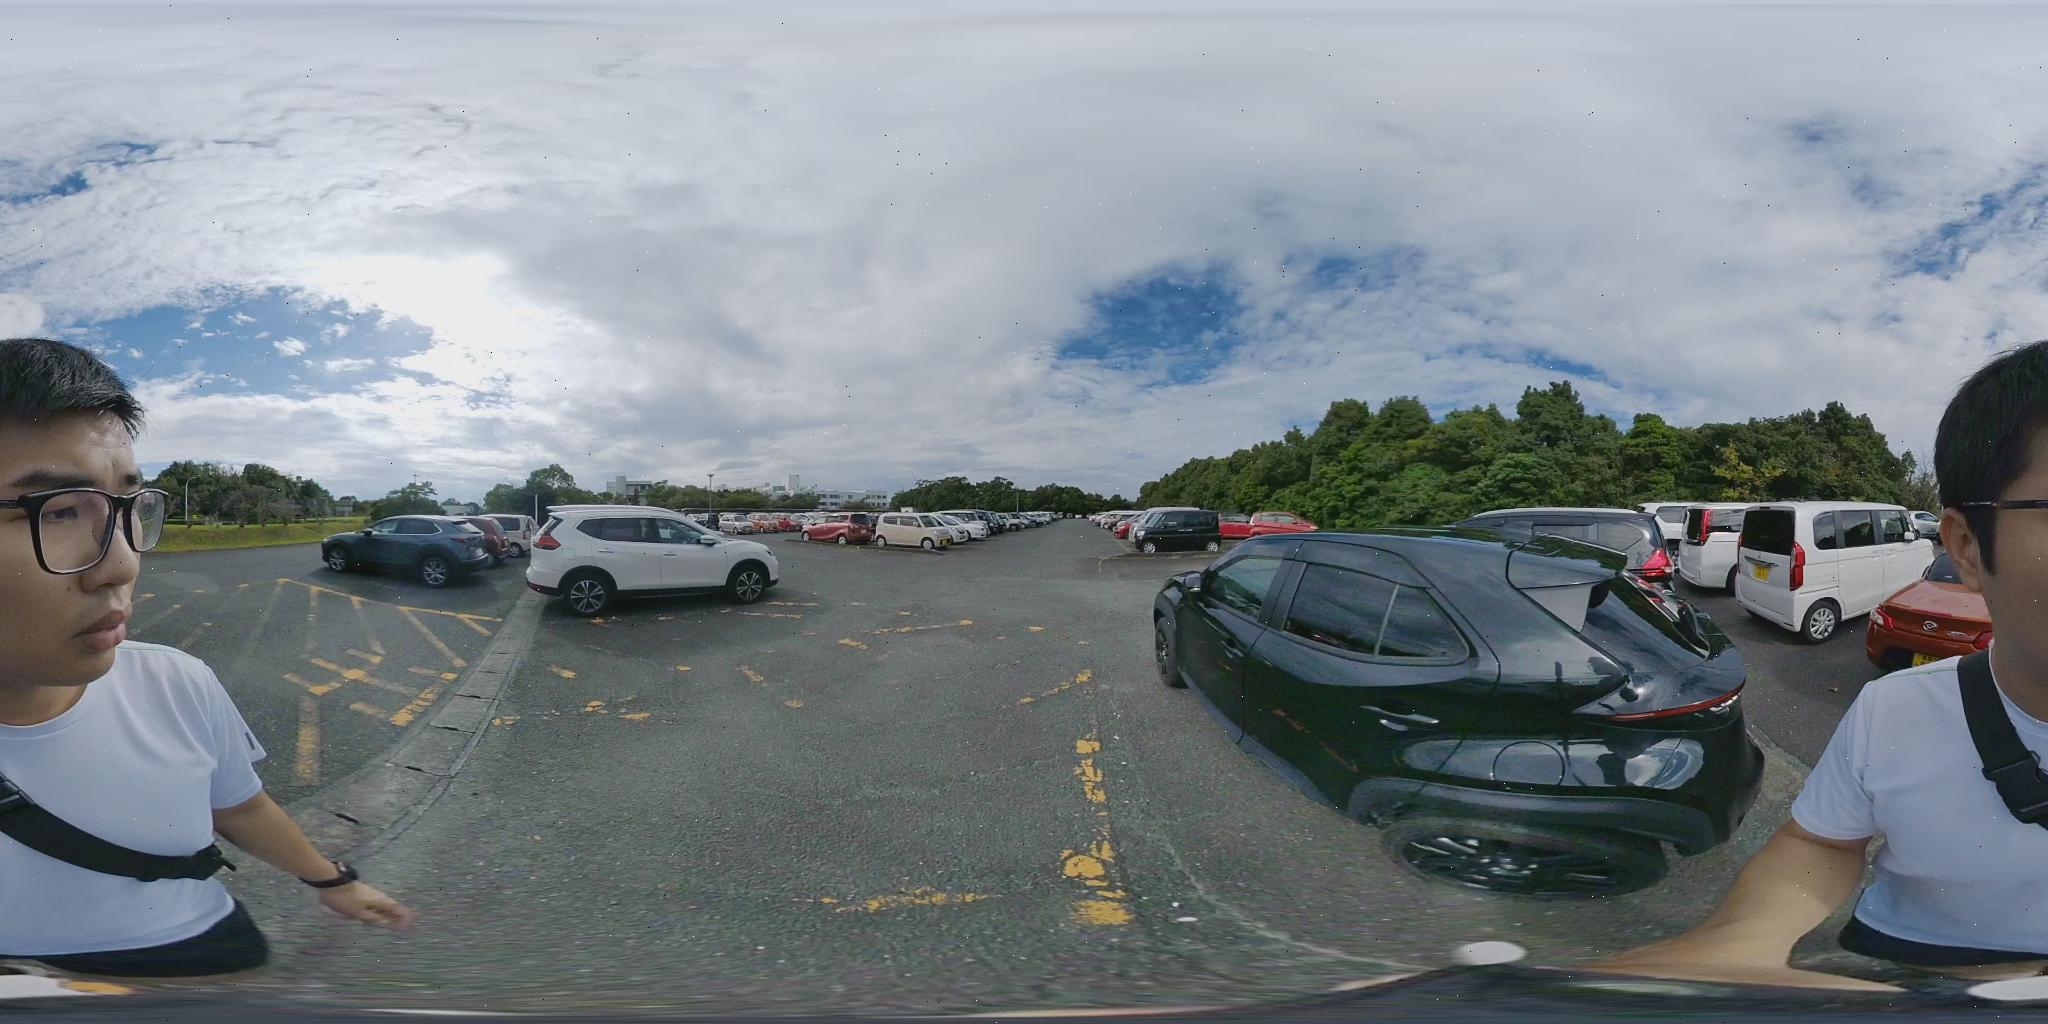car: (1151, 529, 1766, 916), (1441, 511, 1710, 644), (1740, 502, 1933, 643), (529, 509, 785, 614), (1451, 504, 1674, 592), (325, 515, 515, 583), (1682, 503, 1826, 590), (1110, 508, 1226, 555), (878, 516, 989, 550), (458, 517, 542, 556), (827, 515, 925, 547), (1100, 512, 1182, 550), (1228, 511, 1320, 539), (801, 515, 871, 543), (935, 515, 994, 543), (784, 519, 850, 542), (724, 512, 792, 532), (956, 509, 1003, 534), (764, 512, 820, 532), (744, 519, 808, 536), (987, 513, 1032, 534), (1007, 512, 1054, 532), (1098, 511, 1138, 533), (1906, 513, 1936, 542), (1024, 509, 1062, 525)
